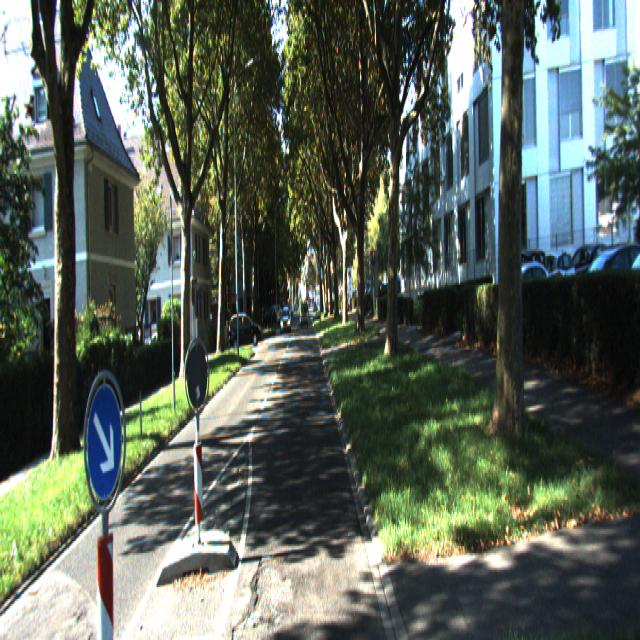Car: (228, 311, 262, 349), (280, 309, 292, 334)
